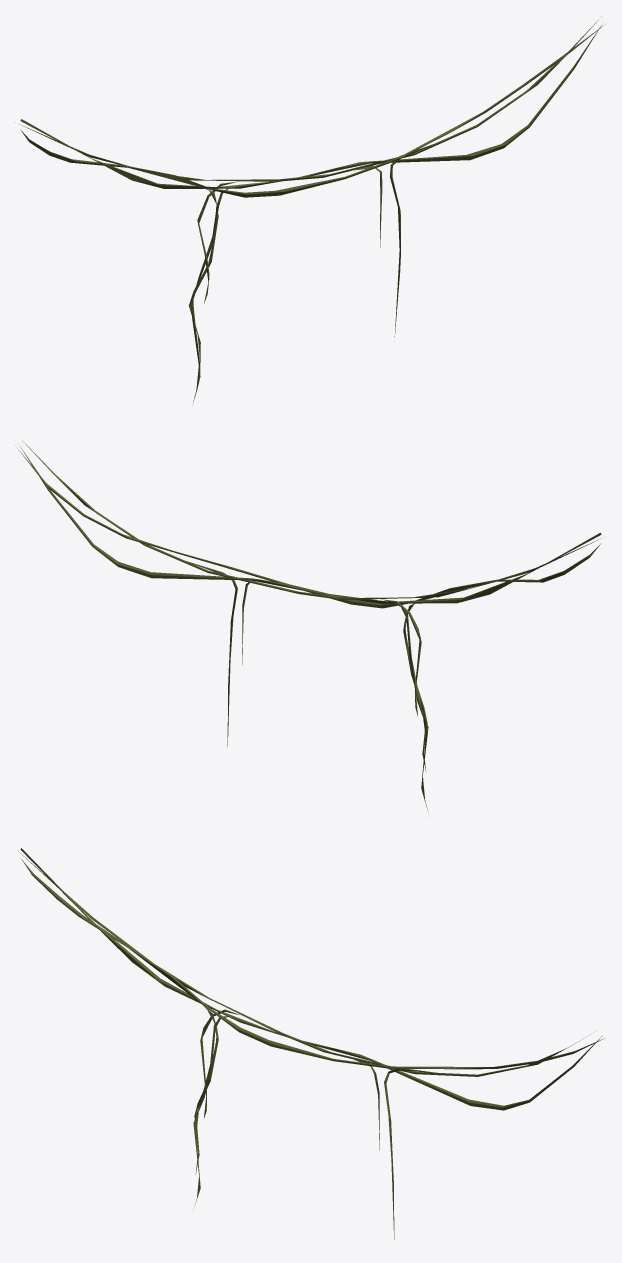
Rendered from Vines_01.glb.
3 views of the same model, one above another, from view 1: azimuth 30°, elevation 25°; view 2: azimuth 150°, elevation 25°; view 3: azimuth 330°, elevation 25° (orthographic).
Parts seen in each view (by area): view 1: Vines_01; view 2: Vines_01; view 3: Vines_01.
Part boxes in pixels (<box>): Vines_01: <box>15,16,605,404</box>; Vines_01: <box>15,440,601,812</box>; Vines_01: <box>18,848,603,1239</box>.
Bounding box in the file's own units: 3 × 1.59 × 0.1378.
Materials: 1 (1 with a texture image).
